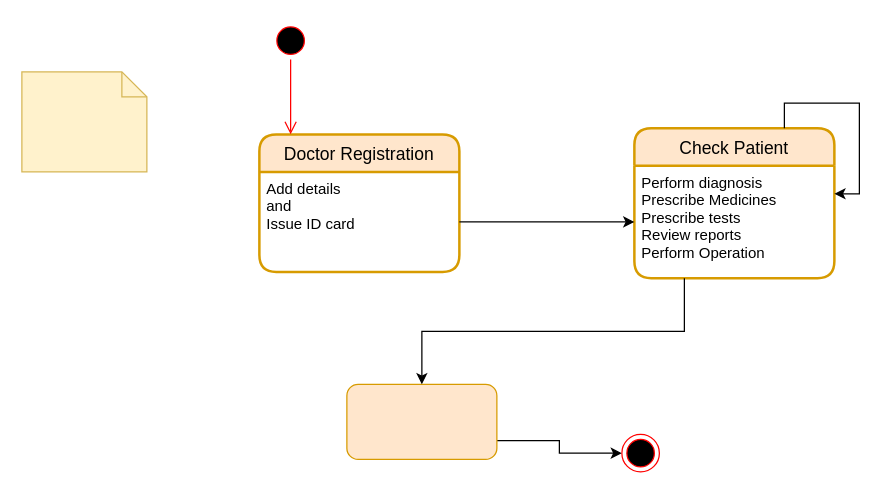
This 891x494 diagram has some shape labels left out. Here are the shapes that lost their labels. From the top down, the centre of each, then its label:
pixel 84 121: Doctor Object
pixel 421 421: Doctor released
